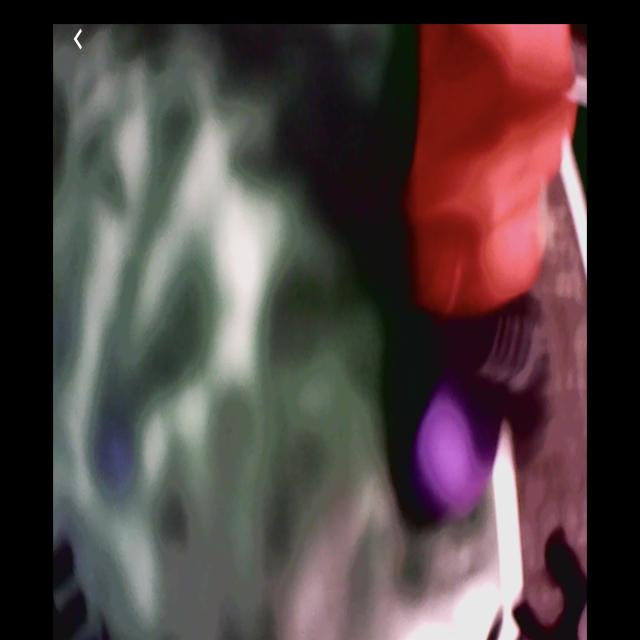ball: (419, 391, 493, 528)
